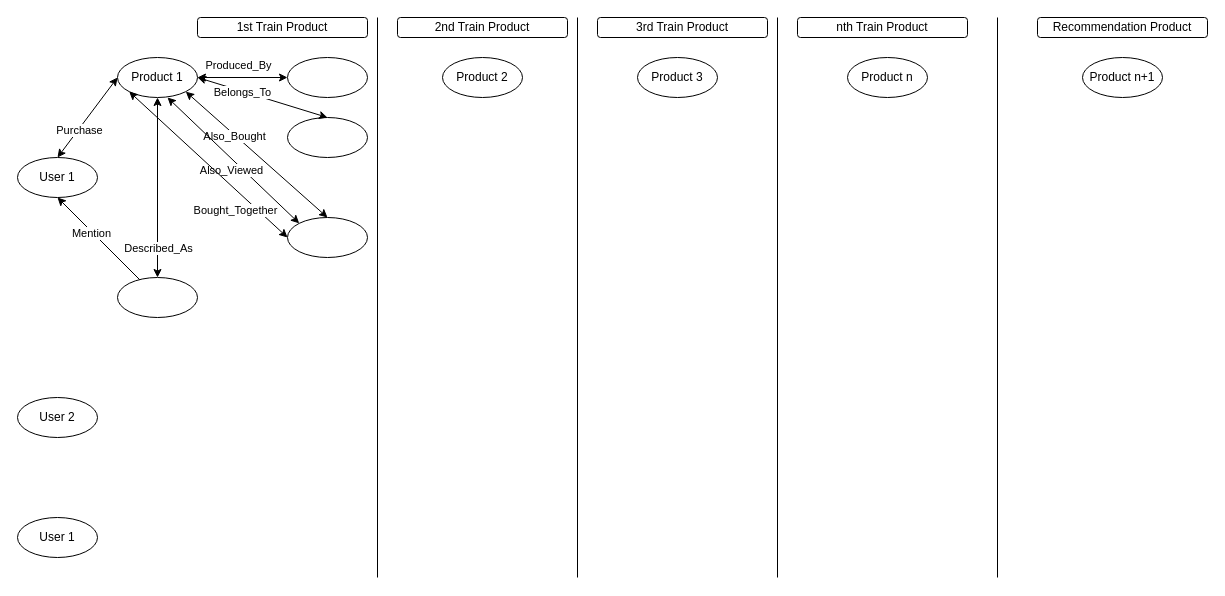
Image size: 1225x596. Some labels were removed from this diagram. Here are the shapes that lost their labels. From the top down, the centre of each, then its label:
(327,77): Brand 1
(327,137): Category 1
(327,237): Related Product 1
(157,297): Word 1
